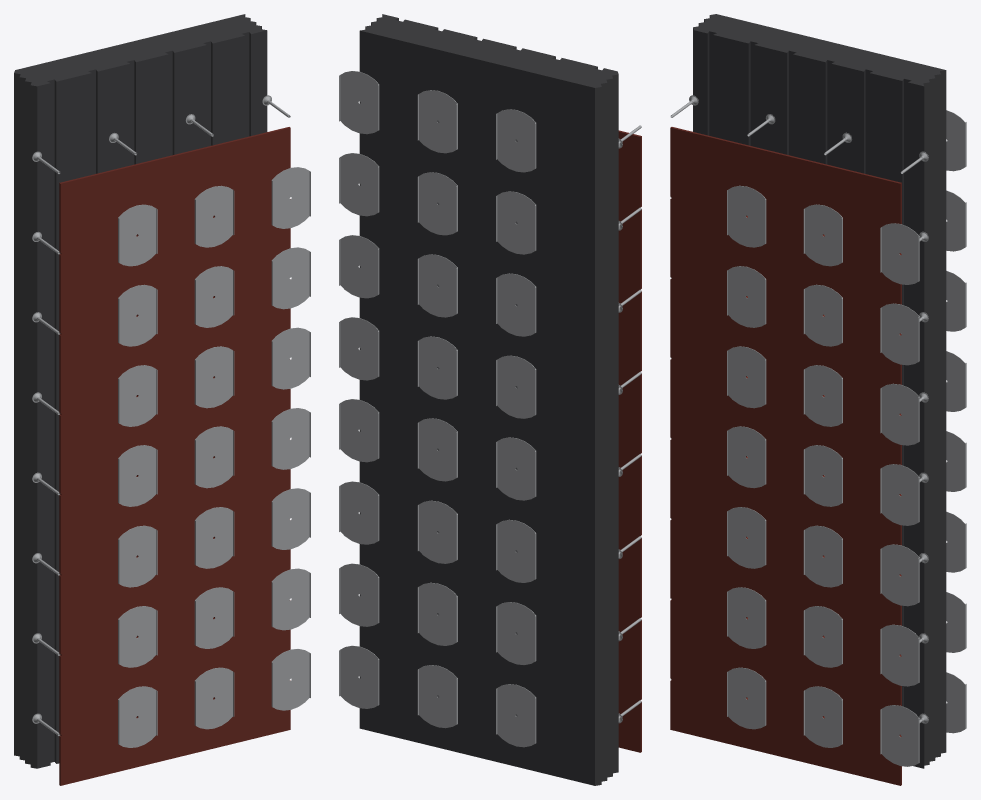
Rendered from polistiwall-cofraj-v1.glb.
3 renders of one model, left to right at view 1: azimuth 30°, elevation 25°; view 2: azimuth 150°, elevation 25°; view 3: azimuth 330°, elevation 25°, orthographic. The views are drawn at different scales.
Parts seen in each view (by area): view 1: Cofraj; view 2: Cofraj; view 3: Cofraj.
Part boxes in pixels (<box>): Cofraj: <box>14,14,310,785</box>; Cofraj: <box>339,14,641,785</box>; Cofraj: <box>670,14,966,785</box>.
Size of the model in its own units: 1.33 by 3.4 by 0.432.
